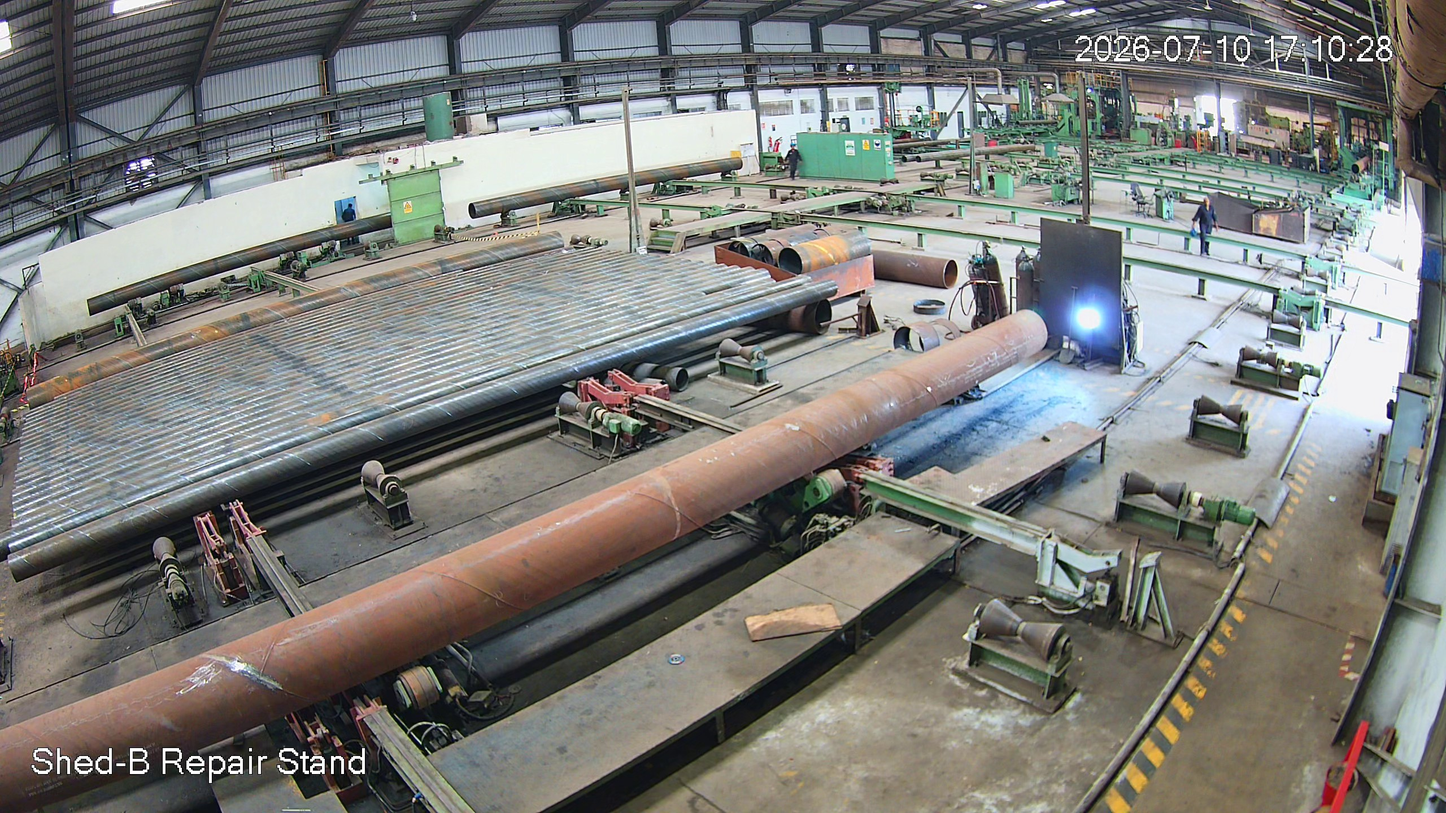Person: (1194, 198, 1220, 257)
